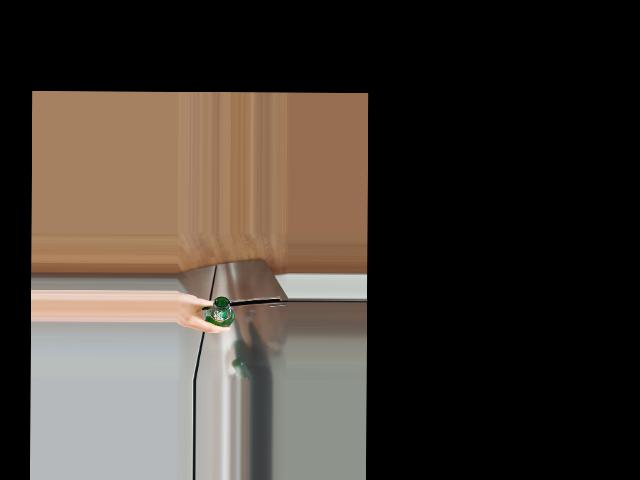beer: (205, 296, 234, 326)
